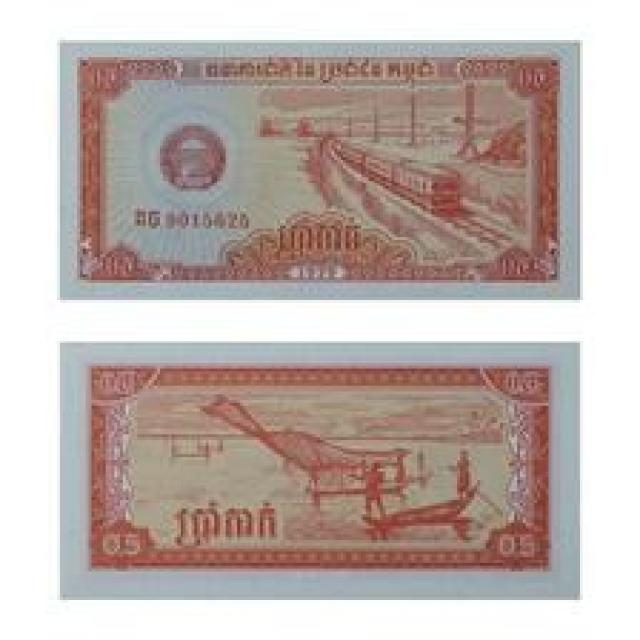banknote: (56, 339, 584, 600), (58, 41, 586, 299)
